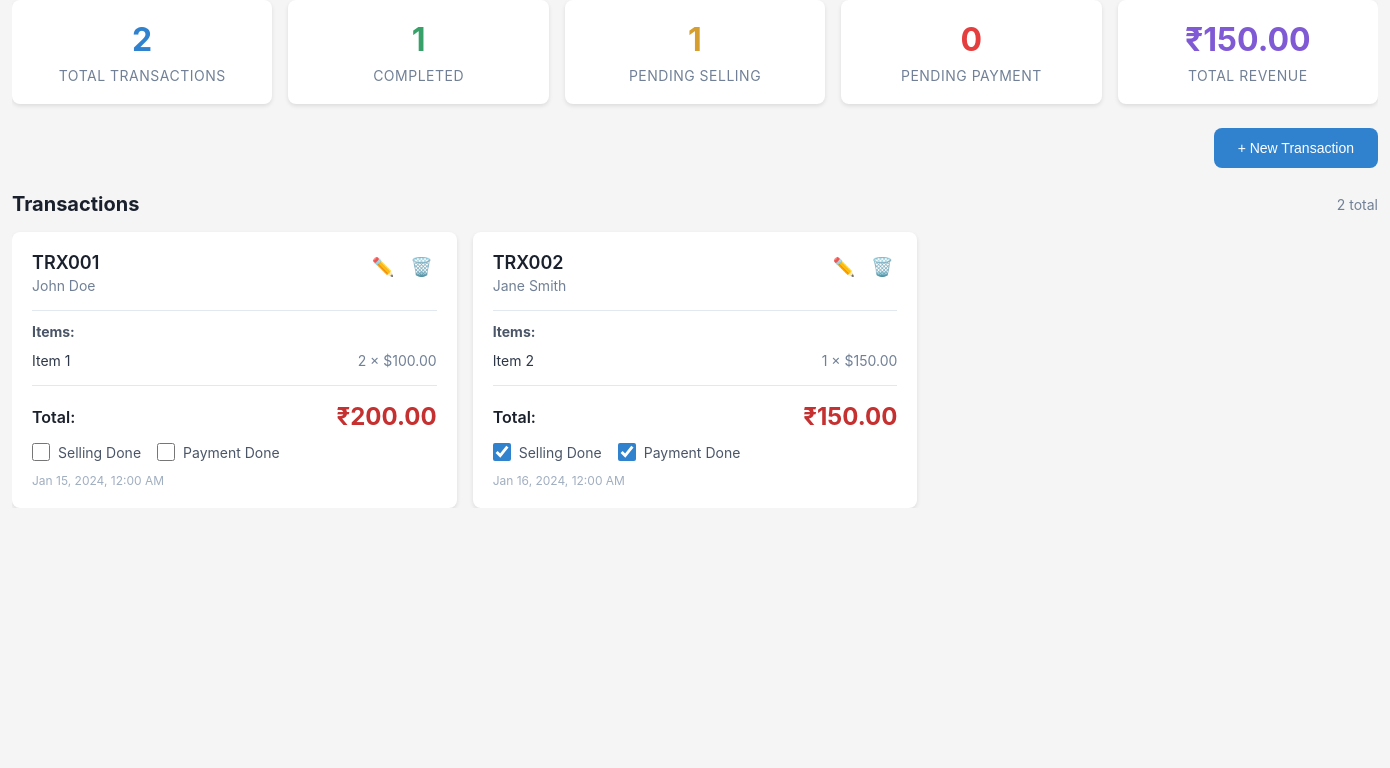
Scenario: TransactionManagement Component › should display error when status update fails
Click the checkbox labelled "Selling Done" below "Item 1".
click(41, 452)  # box [32,443,50,461]
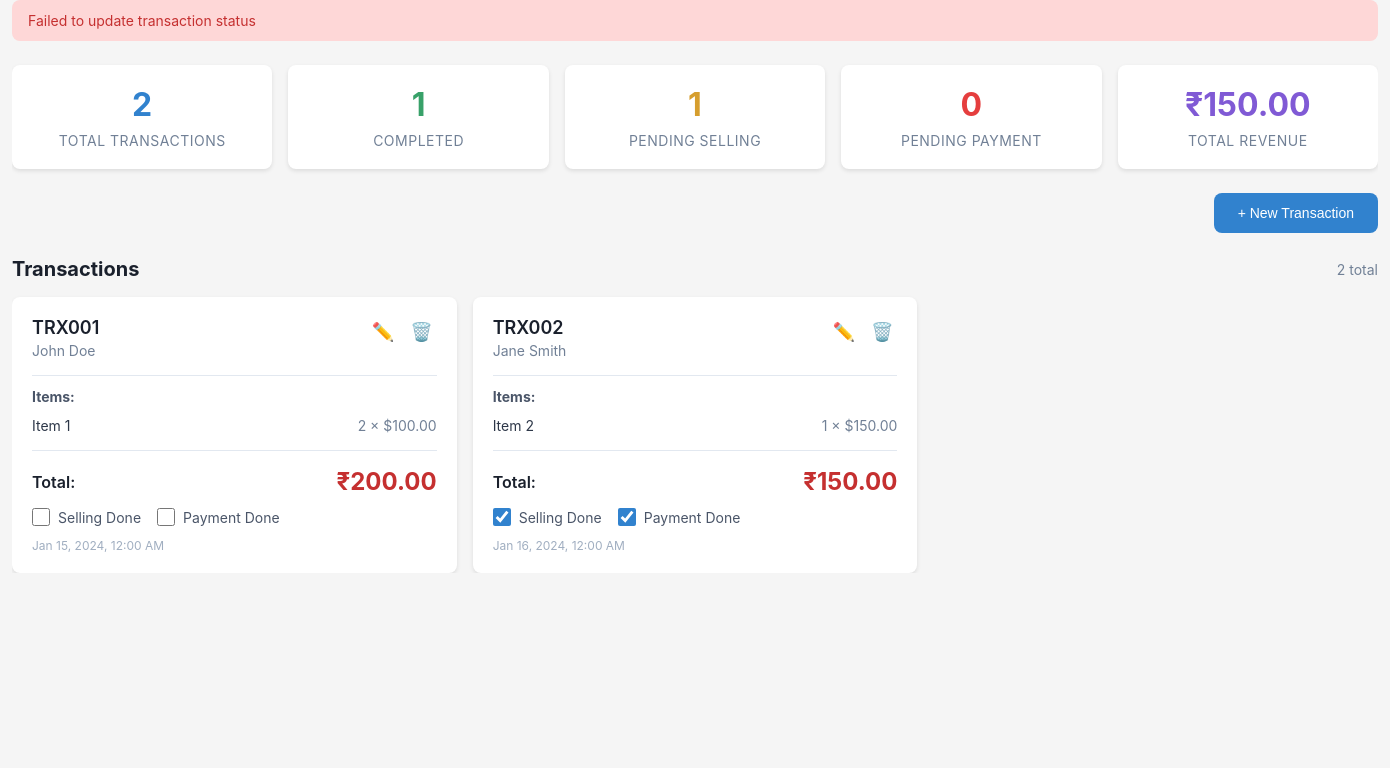
Check: the text "Failed to update transaction status" is shown, box [12,0,1378,41]
